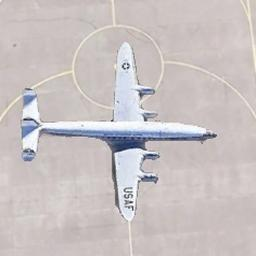Airplane: (20, 39, 228, 224)
